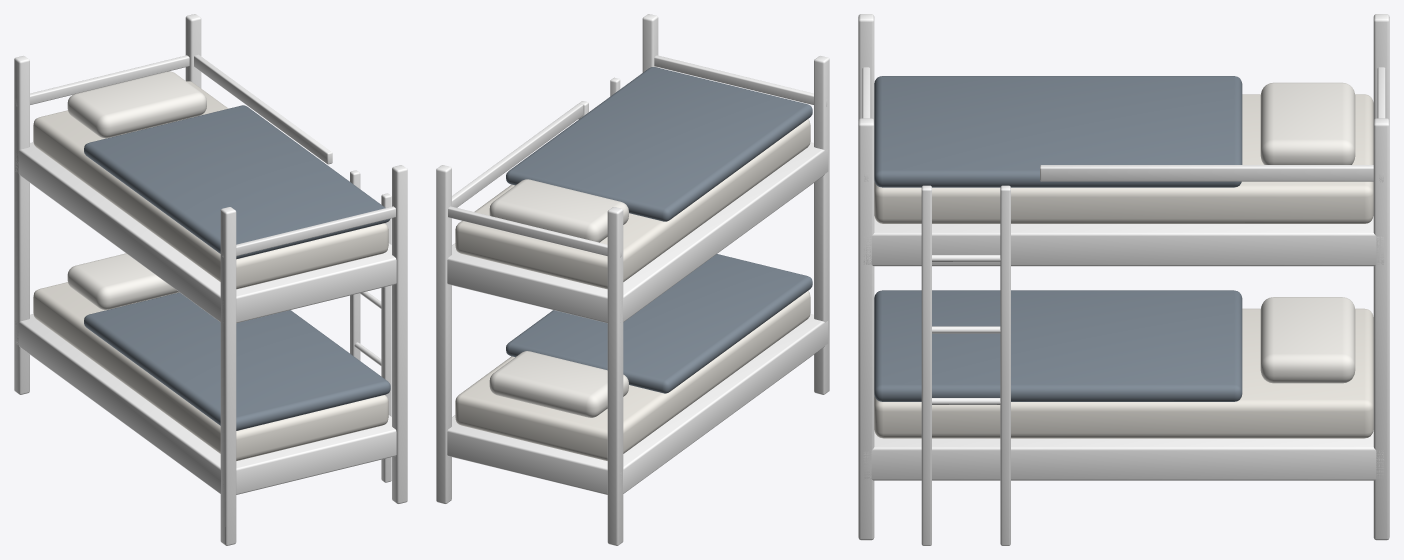
The model's file is beliche.glb.
The picture shows the model from 3 angles, left to right: view 1: azimuth 30°, elevation 25°; view 2: azimuth 150°, elevation 25°; view 3: azimuth 270°, elevation 25°; orthographic projection. The views are drawn at different scales.
Parts seen in each view (by area): view 1: p; view 2: p; view 3: p.
Boxes of the visible parts, <box> form: p: <box>14,14,407,545</box>; p: <box>436,14,829,545</box>; p: <box>858,14,1389,545</box>.
Size of the model in its own units: 1.05 by 1.75 by 2.02.
